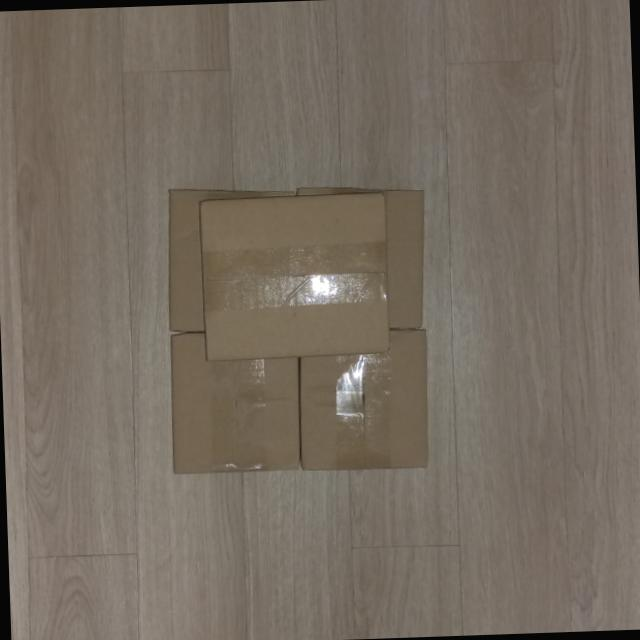box: (195, 184, 395, 365)
